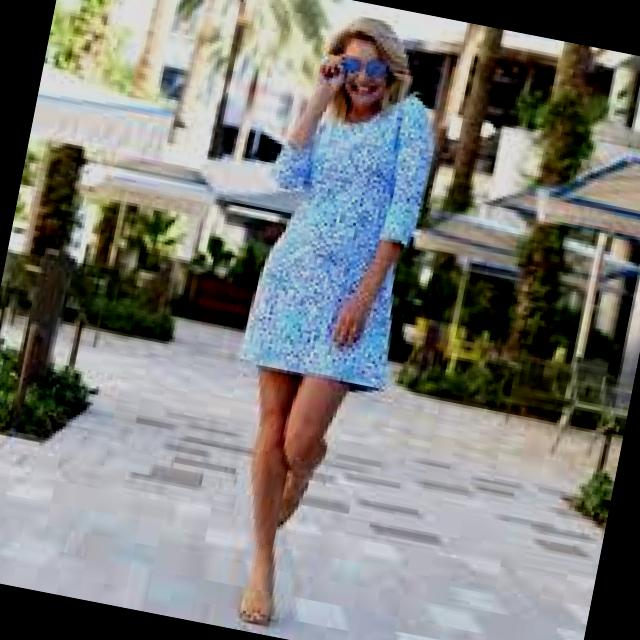dress: (241, 95, 433, 390)
